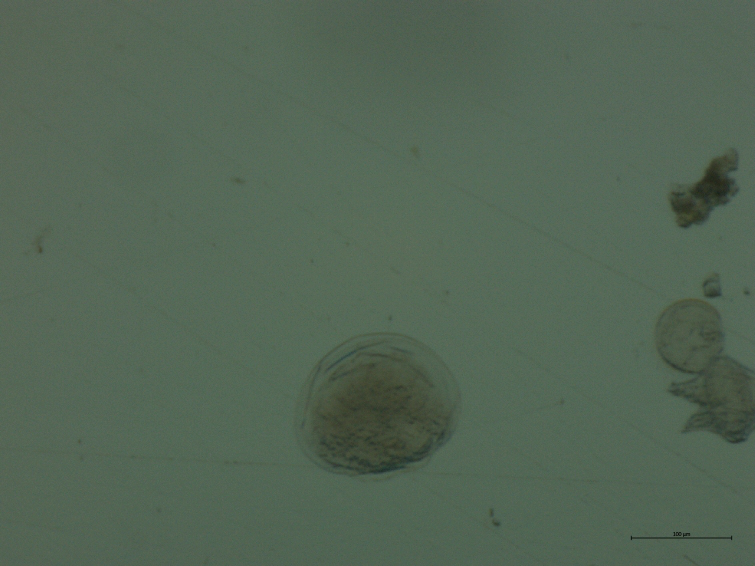oyster: (282, 325, 475, 484)
